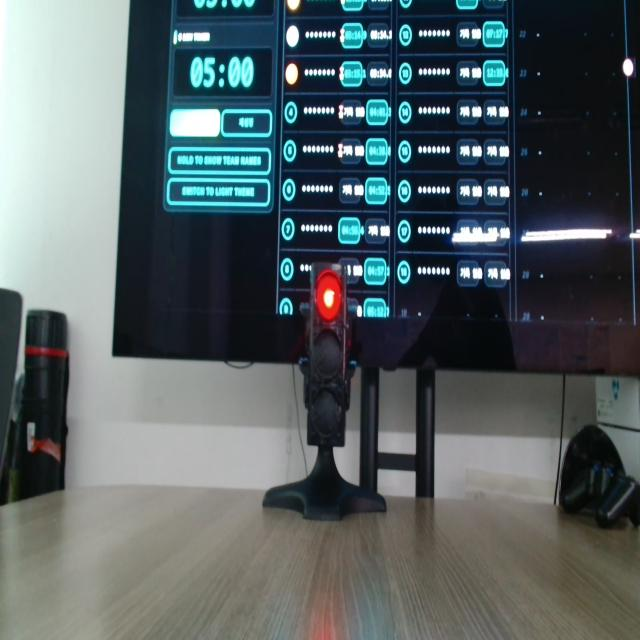red_light: (316, 270, 341, 321)
